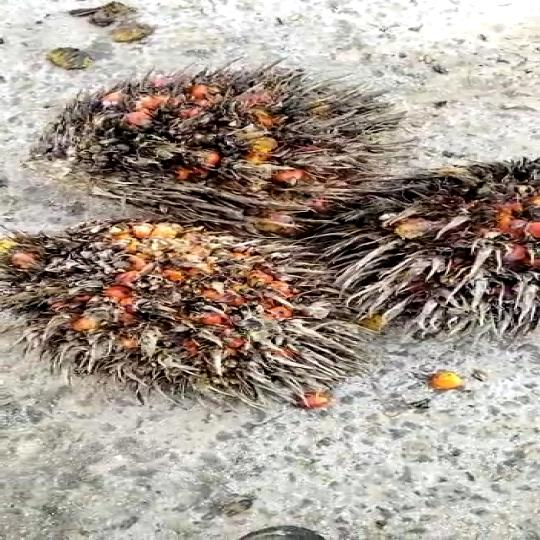terlalu masak: (0, 217, 382, 405), (40, 59, 443, 230)
